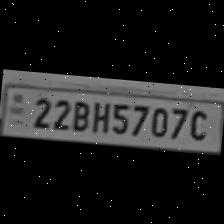0: (145, 102, 170, 138)
2: (28, 94, 54, 130), (49, 94, 71, 132)
5: (106, 97, 130, 136)
7: (166, 102, 188, 140), (128, 100, 149, 137)
B: (69, 94, 91, 132)
C: (185, 104, 212, 141)
H: (88, 96, 111, 134)
